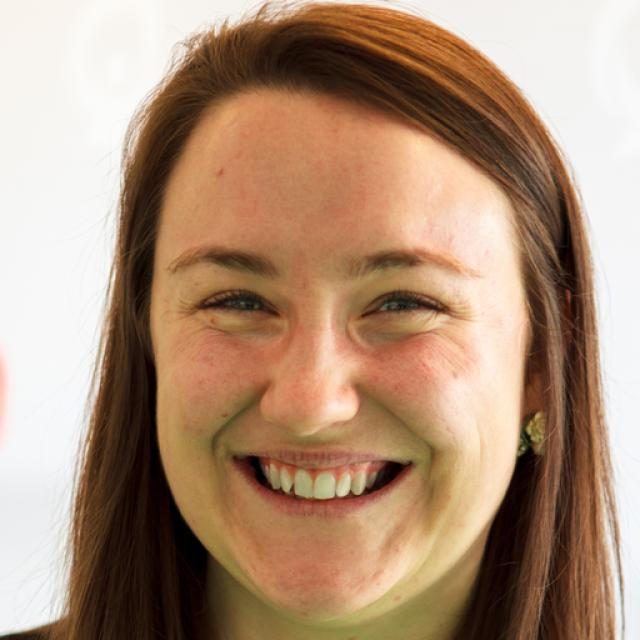Acne: (202, 159, 237, 192)
Pigmentation: (192, 322, 294, 394), (350, 329, 449, 398)
